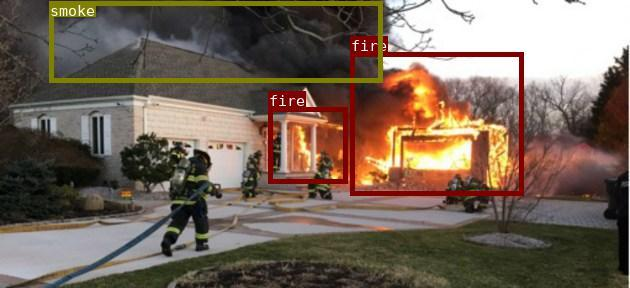fire: (350, 51, 522, 195), (268, 107, 346, 183)
smoke: (49, 1, 381, 82)
